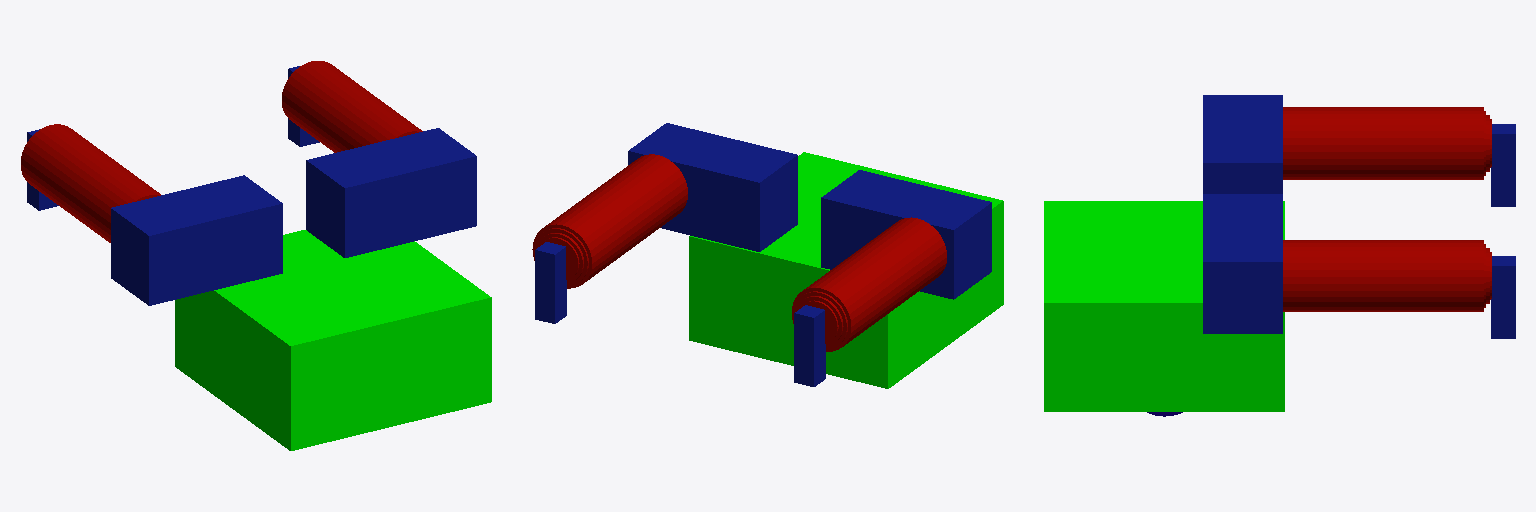
URDF robot description (robot):
<robot name="robot">
  <link name="base_link">
    <visual>
      <origin xyz="0 0 0.1291011279735872" rpy="0 0 0" />
      <geometry>
        <box size="0.3 0.3 0.15" />
      </geometry>
      <material name="base_link-material">
        <color rgba="0.006048833020386069 0.9473065367320066 0.0069954101845983935 1" />
      </material>
    </visual>
    <collision>
      <origin xyz="0 0 0.1291011279735872" rpy="0 0 0" />
      <geometry>
        <box size="0.3 0.3 0.15" />
      </geometry>
    </collision>
    <inertial>
      <origin xyz="0 0 0.1291011279735872" rpy="0 0 0" />
      <mass value="1" />
      <inertia ixx="0.16666666666666666" ixy="0" ixz="0" iyy="0.16666666666666666" iyz="0" izz="0.16666666666666666" />
    </inertial>
  </link>
  <link name="cylinder1">
    <visual>
      <origin xyz="0 0 0" rpy="0 0 0" />
      <geometry>
        <cylinder radius="0.05" length="0.1" />
      </geometry>
      <material name="cylinder1-material">
        <color rgba="0.10461648408208657 0.015996293361446288 0.514917665367466 1" />
      </material>
    </visual>
    <collision>
      <origin xyz="0 0 0" rpy="0 0 0" />
      <geometry>
        <cylinder radius="0.05" length="0.1" />
      </geometry>
    </collision>
    <inertial>
      <origin xyz="0 0 0" rpy="0 0 0" />
      <mass value="1" />
      <inertia ixx="0.3333333333333333" ixy="0" ixz="0" iyy="0.5" iyz="0" izz="0.3333333333333333" />
    </inertial>
  </link>
  <joint name="base_link_to_cylinder1" type="fixed">
    <parent link="base_link" />
    <child link="cylinder1" />
    <origin xyz="0 0 0.05122113929521599" rpy="1.5707963267948966 2.220446049250313e-16 1.5707963267948963" />
  </joint>
  <link name="cube3">
    <visual>
      <origin xyz="0 0 0" rpy="0 0 0" />
      <geometry>
        <box size="0.1 0.1 0.1" />
      </geometry>
      <material name="cube3-material">
        <color rgba="0.08865558627723595 0.13563332964548108 0.5647115056965487 1" />
      </material>
    </visual>
    <collision>
      <origin xyz="0 0 0" rpy="0 0 0" />
      <geometry>
        <box size="0.1 0.1 0.1" />
      </geometry>
    </collision>
    <inertial>
      <origin xyz="0 0 0" rpy="0 0 0" />
      <mass value="1" />
      <inertia ixx="0.16666666666666666" ixy="0" ixz="0" iyy="0.16666666666666666" iyz="0" izz="0.16666666666666666" />
    </inertial>
  </link>
  <joint name="base_link_to_cube3" type="revolute">
    <parent link="base_link" />
    <child link="cube3" />
    <origin xyz="0.09490880780581268 0.09748329533451194 0.25430133179925585" rpy="0 0 0" />
    <axis xyz="0 0 1"/>
    <limit effort="1000.0" lower="-1" upper="1" velocity="0.5"/>  </joint>
  <link name="cube3-copy3">
    <visual>
      <origin xyz="0 0 0" rpy="0 0 0" />
      <geometry>
        <box size="0.1 0.1 0.1" />
      </geometry>
      <material name="cube3-copy3-material">
        <color rgba="0.08865558627723595 0.13563332964548108 0.5647115056965487 1" />
      </material>
    </visual>
    <collision>
      <origin xyz="0 0 0" rpy="0 0 0" />
      <geometry>
        <box size="0.1 0.1 0.1" />
      </geometry>
    </collision>
    <inertial>
      <origin xyz="0 0 0" rpy="0 0 0" />
      <mass value="1" />
      <inertia ixx="0.16666666666666666" ixy="0" ixz="0" iyy="0.16666666666666666" iyz="0" izz="0.16666666666666666" />
    </inertial>
  </link>
  <joint name="cube3_to_cube3-copy3" type="revolute">
    <parent link="cube3" />
    <child link="cube3-copy3" />
    <origin xyz="0.0977326868794024 0 0" rpy="0 1.5707963267948966 0" />
    <axis xyz="0 0 1"/>
    <limit effort="1000.0" lower="-1" upper="1" velocity="0.5"/>  </joint>
  <link name="cylinder3-copy5">
    <visual>
      <origin xyz="2.7755575615628914e-17 -3.903127820947816e-17 -1.3877787807814457e-17" rpy="0 0 0" />
      <geometry>
        <cylinder radius="0.045" length="0.25" />
      </geometry>
      <material name="cylinder3-copy5-material">
        <color rgba="0.6583748172725346 0.036889450395083165 0.012983032338510335 1" />
      </material>
    </visual>
    <collision>
      <origin xyz="2.7755575615628914e-17 -3.903127820947816e-17 -1.3877787807814457e-17" rpy="0 0 0" />
      <geometry>
        <cylinder radius="0.045" length="0.25" />
      </geometry>
    </collision>
    <inertial>
      <origin xyz="2.7755575615628914e-17 -3.903127820947816e-17 -1.3877787807814457e-17" rpy="0 0 0" />
      <mass value="1" />
      <inertia ixx="0.3333333333333333" ixy="0" ixz="0" iyy="0.5" iyz="0" izz="0.3333333333333333" />
    </inertial>
  </link>
  <joint name="cube3-copy3_to_cylinder3-copy5" type="fixed">
    <parent link="cube3-copy3" />
    <child link="cylinder3-copy5" />
    <origin xyz="-0.009420597854085 0.17490331386129884 0.004821036014162006" rpy="-2.356194490192345 1.5707963267948966 -0.7853981633974483" />
  </joint>
  <link name="cylinder3">
    <visual>
      <origin xyz="2.7755575615628914e-17 -3.903127820947816e-17 -1.3877787807814457e-17" rpy="0 0 0" />
      <geometry>
        <cylinder radius="0.04" length="0.25" />
      </geometry>
      <material name="cylinder3-material">
        <color rgba="0.6583748172725346 0.036889450395083165 0.012983032338510335 1" />
      </material>
    </visual>
    <collision>
      <origin xyz="2.7755575615628914e-17 -3.903127820947816e-17 -1.3877787807814457e-17" rpy="0 0 0" />
      <geometry>
        <cylinder radius="0.04" length="0.25" />
      </geometry>
    </collision>
    <inertial>
      <origin xyz="2.7755575615628914e-17 -3.903127820947816e-17 -1.3877787807814457e-17" rpy="0 0 0" />
      <mass value="1" />
      <inertia ixx="0.3333333333333333" ixy="0" ixz="0" iyy="0.5" iyz="0" izz="0.3333333333333333" />
    </inertial>
  </link>
  <joint name="cylinder3-copy5_to_cylinder3" type="prismatic">
    <parent link="cylinder3-copy5" />
    <child link="cylinder3" />
    <origin xyz="2.7028641463453882e-17 -4.336808689942018e-19 0.0032738203768583746" rpy="0 0 0" />
    <axis xyz="0 0 1"/>
    <limit effort="1000.0" lower="0" upper="0.2" velocity="0.5"/>  </joint>
  <link name="cylinder3-copy0">
    <visual>
      <origin xyz="0 0 0" rpy="0 0 0" />
      <geometry>
        <cylinder radius="0.035" length="0.25" />
      </geometry>
      <material name="cylinder3-copy0-material">
        <color rgba="0.6583748172725346 0.036889450395083165 0.012983032338510335 1" />
      </material>
    </visual>
    <collision>
      <origin xyz="0 0 0" rpy="0 0 0" />
      <geometry>
        <cylinder radius="0.035" length="0.25" />
      </geometry>
    </collision>
    <inertial>
      <origin xyz="0 0 0" rpy="0 0 0" />
      <mass value="1" />
      <inertia ixx="0.3333333333333333" ixy="0" ixz="0" iyy="0.5" iyz="0" izz="0.3333333333333333" />
    </inertial>
  </link>
  <joint name="cylinder3_to_cylinder3-copy0" type="prismatic">
    <parent link="cylinder3" />
    <child link="cylinder3-copy0" />
    <origin xyz="5.388818844109483e-17 -6.808789643208968e-17 0.004016047725078617" rpy="0 0 0" />
    <axis xyz="0 0 1"/>
    <limit effort="1000.0" lower="0" upper="0.2" velocity="0.5"/>  
    <mimic joint="cylinder3-copy5_to_cylinder3" multiplier="1.0" offset="0.0"/>
  </joint>
  <link name="cylinder3-copy1">
    <visual>
      <origin xyz="0 0 0" rpy="0 0 0" />
      <geometry>
        <cylinder radius="0.03" length="0.25" />
      </geometry>
      <material name="cylinder3-copy1-material">
        <color rgba="0.6583748172725346 0.036889450395083165 0.012983032338510335 1" />
      </material>
    </visual>
    <collision>
      <origin xyz="0 0 0" rpy="0 0 0" />
      <geometry>
        <cylinder radius="0.03" length="0.25" />
      </geometry>
    </collision>
    <inertial>
      <origin xyz="0 0 0" rpy="0 0 0" />
      <mass value="1" />
      <inertia ixx="0.3333333333333333" ixy="0" ixz="0" iyy="0.5" iyz="0" izz="0.3333333333333333" />
    </inertial>
  </link>
  <joint name="cylinder3-copy0_to_cylinder3-copy1" type="prismatic">
    <parent link="cylinder3-copy0" />
    <child link="cylinder3-copy1" />
    <origin xyz="-9.301005920151903e-19 -1.235990476633475e-17 0.003018064157115752" rpy="0 0 0" />
    <axis xyz="0 0 1"/>
    <limit effort="1000.0" lower="0" upper="0.2" velocity="0.5"/>    
    <mimic joint="cylinder3-copy5_to_cylinder3" multiplier="1.0" offset="0.0"/>
  </joint>
  <link name="cube3-copy2">
    <visual>
      <origin xyz="0 0 0" rpy="0 0 0" />
      <geometry>
        <box size="0.03 0.03 0.1" />
      </geometry>
      <material name="cube3-copy2-material">
        <color rgba="0.08865558627723595 0.13563332964548108 0.5647115056965487 1" />
      </material>
    </visual>
    <collision>
      <origin xyz="0 0 0" rpy="0 0 0" />
      <geometry>
        <box size="0.03 0.03 0.1" />
      </geometry>
    </collision>
    <inertial>
      <origin xyz="0 0 0" rpy="0 0 0" />
      <mass value="1" />
      <inertia ixx="0.16666666666666666" ixy="0" ixz="0" iyy="0.16666666666666666" iyz="0" izz="0.16666666666666666" />
    </inertial>
  </link>
  <joint name="cylinder3-copy1_to_cube3-copy2" type="fixed">
    <parent link="cylinder3-copy1" />
    <child link="cube3-copy2" />
    <origin xyz="-0.0031223829591222113 -0.028689304082221243 0.13915032059303187" rpy="-1.5707963267948963 0 0" />
  </joint>
  <link name="cube3-copy0">
    <visual>
      <origin xyz="0 0 0" rpy="0 0 0" />
      <geometry>
        <box size="0.1 0.1 0.1" />
      </geometry>
      <material name="cube3-copy0-material">
        <color rgba="0.08865558627723595 0.13563332964548108 0.5647115056965487 1" />
      </material>
    </visual>
    <collision>
      <origin xyz="0 0 0" rpy="0 0 0" />
      <geometry>
        <box size="0.1 0.1 0.1" />
      </geometry>
    </collision>
    <inertial>
      <origin xyz="0 0 0" rpy="0 0 0" />
      <mass value="1" />
      <inertia ixx="0.16666666666666666" ixy="0" ixz="0" iyy="0.16666666666666666" iyz="0" izz="0.16666666666666666" />
    </inertial>
  </link>
  <joint name="base_link_to_cube3-copy0" type="revolute">
    <parent link="base_link" />
    <child link="cube3-copy0" />
    <origin xyz="-0.09726916492783255 0.09748329533451194 0.25430133179925585" rpy="0 0 0" />
    <axis xyz="0 0 1"/>
    <limit effort="1000.0" lower="-1" upper="1" velocity="0.5"/>  </joint>
  <link name="cube3-copy4">
    <visual>
      <origin xyz="0 0 0" rpy="0 0 0" />
      <geometry>
        <box size="0.1 0.1 0.1" />
      </geometry>
      <material name="cube3-copy4-material">
        <color rgba="0.08865558627723595 0.13563332964548108 0.5647115056965487 1" />
      </material>
    </visual>
    <collision>
      <origin xyz="0 0 0" rpy="0 0 0" />
      <geometry>
        <box size="0.1 0.1 0.1" />
      </geometry>
    </collision>
    <inertial>
      <origin xyz="0 0 0" rpy="0 0 0" />
      <mass value="1" />
      <inertia ixx="0.16666666666666666" ixy="0" ixz="0" iyy="0.16666666666666666" iyz="0" izz="0.16666666666666666" />
    </inertial>
  </link>
  <joint name="cube3-copy0_to_cube3-copy4" type="revolute">
    <parent link="cube3-copy0" />
    <child link="cube3-copy4" />
    <origin xyz="-0.09985074079374005 0 0" rpy="0 1.5707963267948966 0" />
    <axis xyz="0 0 1"/>
    <limit effort="1000.0" lower="-1" upper="1" velocity="0.5"/>  </joint>
  <link name="cylinder3-copy6">
    <visual>
      <origin xyz="2.7755575615628914e-17 -3.903127820947816e-17 -1.3877787807814457e-17" rpy="0 0 0" />
      <geometry>
        <cylinder radius="0.045" length="0.25" />
      </geometry>
      <material name="cylinder3-copy6-material">
        <color rgba="0.6583748172725346 0.036889450395083165 0.012983032338510335 1" />
      </material>
    </visual>
    <collision>
      <origin xyz="2.7755575615628914e-17 -3.903127820947816e-17 -1.3877787807814457e-17" rpy="0 0 0" />
      <geometry>
        <cylinder radius="0.045" length="0.25" />
      </geometry>
    </collision>
    <inertial>
      <origin xyz="2.7755575615628914e-17 -3.903127820947816e-17 -1.3877787807814457e-17" rpy="0 0 0" />
      <mass value="1" />
      <inertia ixx="0.3333333333333333" ixy="0" ixz="0" iyy="0.5" iyz="0" izz="0.3333333333333333" />
    </inertial>
  </link>
  <joint name="cube3-copy4_to_cylinder3-copy6" type="fixed">
    <parent link="cube3-copy4" />
    <child link="cylinder3-copy6" />
    <origin xyz="-0.009420597854085 0.17490331386129884 0.004821036014162006" rpy="-2.356194490192345 1.5707963267948966 -0.7853981633974483" />
  </joint>
  <link name="cylinder3-copy2">
    <visual>
      <origin xyz="2.7755575615628914e-17 -3.903127820947816e-17 -1.3877787807814457e-17" rpy="0 0 0" />
      <geometry>
        <cylinder radius="0.04" length="0.25" />
      </geometry>
      <material name="cylinder3-copy2-material">
        <color rgba="0.6583748172725346 0.036889450395083165 0.012983032338510335 1" />
      </material>
    </visual>
    <collision>
      <origin xyz="2.7755575615628914e-17 -3.903127820947816e-17 -1.3877787807814457e-17" rpy="0 0 0" />
      <geometry>
        <cylinder radius="0.04" length="0.25" />
      </geometry>
    </collision>
    <inertial>
      <origin xyz="2.7755575615628914e-17 -3.903127820947816e-17 -1.3877787807814457e-17" rpy="0 0 0" />
      <mass value="1" />
      <inertia ixx="0.3333333333333333" ixy="0" ixz="0" iyy="0.5" iyz="0" izz="0.3333333333333333" />
    </inertial>
  </link>
  <joint name="cylinder3-copy6_to_cylinder3-copy2" type="prismatic">
    <parent link="cylinder3-copy6" />
    <child link="cylinder3-copy2" />
    <origin xyz="2.7028641463453882e-17 -4.336808689942018e-19 0.0032738203768583746" rpy="0 0 0" />
    <axis xyz="0 0 1"/>
    <limit effort="1000.0" lower="0" upper="0.2" velocity="0.5"/>  </joint>
  <link name="cylinder3-copy3">
    <visual>
      <origin xyz="0 0 0" rpy="0 0 0" />
      <geometry>
        <cylinder radius="0.035" length="0.25" />
      </geometry>
      <material name="cylinder3-copy3-material">
        <color rgba="0.6583748172725346 0.036889450395083165 0.012983032338510335 1" />
      </material>
    </visual>
    <collision>
      <origin xyz="0 0 0" rpy="0 0 0" />
      <geometry>
        <cylinder radius="0.035" length="0.25" />
      </geometry>
    </collision>
    <inertial>
      <origin xyz="0 0 0" rpy="0 0 0" />
      <mass value="1" />
      <inertia ixx="0.3333333333333333" ixy="0" ixz="0" iyy="0.5" iyz="0" izz="0.3333333333333333" />
    </inertial>
  </link>
  <joint name="cylinder3-copy2_to_cylinder3-copy3" type="prismatic">
    <parent link="cylinder3-copy2" />
    <child link="cylinder3-copy3" />
    <origin xyz="5.388818844109483e-17 -6.808789643208968e-17 0.004016047725078617" rpy="0 0 0" />
    <axis xyz="0 0 1"/>
    <limit effort="1000.0" lower="0" upper="0.2" velocity="0.5"/> 
    <mimic joint="cylinder3-copy6_to_cylinder3-copy2" multiplier="1.0" offset="0.0"/>
  </joint>
  <link name="cylinder3-copy4">
    <visual>
      <origin xyz="0 0 0" rpy="0 0 0" />
      <geometry>
        <cylinder radius="0.03" length="0.25" />
      </geometry>
      <material name="cylinder3-copy4-material">
        <color rgba="0.6583748172725346 0.036889450395083165 0.012983032338510335 1" />
      </material>
    </visual>
    <collision>
      <origin xyz="0 0 0" rpy="0 0 0" />
      <geometry>
        <cylinder radius="0.03" length="0.25" />
      </geometry>
    </collision>
    <inertial>
      <origin xyz="0 0 0" rpy="0 0 0" />
      <mass value="1" />
      <inertia ixx="0.3333333333333333" ixy="0" ixz="0" iyy="0.5" iyz="0" izz="0.3333333333333333" />
    </inertial>
  </link>
  <joint name="cylinder3-copy3_to_cylinder3-copy4" type="prismatic">
    <parent link="cylinder3-copy3" />
    <child link="cylinder3-copy4" />
    <origin xyz="-9.301005920151903e-19 -1.235990476633475e-17 0.003018064157115752" rpy="0 0 0" />
    <axis xyz="0 0 1"/>
    <limit effort="1000.0" lower="0" upper="0.2" velocity="0.5"/>
    <mimic joint="cylinder3-copy6_to_cylinder3-copy2" multiplier="1.0" offset="0.0"/>
  </joint>
  <link name="cube3-copy5">
    <visual>
      <origin xyz="0 0 0" rpy="0 0 0" />
      <geometry>
        <box size="0.03 0.03 0.1" />
      </geometry>
      <material name="cube3-copy5-material">
        <color rgba="0.08865558627723595 0.13563332964548108 0.5647115056965487 1" />
      </material>
    </visual>
    <collision>
      <origin xyz="0 0 0" rpy="0 0 0" />
      <geometry>
        <box size="0.03 0.03 0.1" />
      </geometry>
    </collision>
    <inertial>
      <origin xyz="0 0 0" rpy="0 0 0" />
      <mass value="1" />
      <inertia ixx="0.16666666666666666" ixy="0" ixz="0" iyy="0.16666666666666666" iyz="0" izz="0.16666666666666666" />
    </inertial>
  </link>
  <joint name="cylinder3-copy4_to_cube3-copy5" type="fixed">
    <parent link="cylinder3-copy4" />
    <child link="cube3-copy5" />
    <origin xyz="-0.0031223829591222113 -0.028689304082221243 0.13915032059303187" rpy="-1.5707963267948963 0 0" />
  </joint>
</robot>

--- Facts derived from the render (not from the file) ---
The picture shows the robot from 3 angles, left to right: view 1: azimuth 30°, elevation 25°; view 2: azimuth 150°, elevation 25°; view 3: azimuth 270°, elevation 25°; orthographic projection.
Model robot with 16 links and 15 joints (4 revolute, 6 prismatic, 5 fixed), rooted at base_link, posed every joint at zero.
Links seen in each view (by area): view 1: base_link, cube3-copy4, cube3, cylinder3-copy6, cylinder3-copy5, cube3-copy0, cube3-copy3; view 2: base_link, cube3, cylinder3-copy5, cylinder3-copy6, cube3-copy4, cube3-copy0, cube3-copy3, cube3-copy2, cube3-copy5; view 3: base_link, cylinder3-copy6, cylinder3-copy5, cube3-copy3, cube3-copy0, cube3, cube3-copy4, cube3-copy2, cube3-copy5.
Link boxes in pixels (<box>): base_link: <box>175,230,491,450</box>; cube3-copy4: <box>111,192,215,305</box>; cube3: <box>306,144,411,257</box>; cylinder3-copy6: <box>21,124,160,242</box>; cylinder3-copy5: <box>282,61,422,152</box>; cube3-copy0: <box>177,175,282,289</box>; cube3-copy3: <box>374,128,476,241</box>; base_link: <box>689,152,1003,388</box>; cube3: <box>693,139,797,251</box>; cylinder3-copy5: <box>532,154,687,288</box>; cylinder3-copy6: <box>792,217,946,351</box>; cube3-copy4: <box>888,186,991,299</box>; cube3-copy0: <box>821,170,924,269</box>; cube3-copy3: <box>628,123,731,236</box>; cube3-copy2: <box>535,242,566,323</box>; cube3-copy5: <box>794,305,825,386</box>; base_link: <box>1044,201,1284,411</box>; cylinder3-copy6: <box>1283,107,1483,179</box>; cylinder3-copy5: <box>1283,240,1483,311</box>; cube3-copy3: <box>1203,228,1282,333</box>; cube3-copy0: <box>1203,129,1282,193</box>; cube3: <box>1203,194,1282,227</box>; cube3-copy4: <box>1203,95,1282,128</box>; cube3-copy2: <box>1491,256,1515,338</box>; cube3-copy5: <box>1491,124,1515,206</box>.
Bounding box of the posed robot: 0.4898 × 0.5868 × 0.3075 m (x, y, z).
Geometry: primitives only (box / cylinder / sphere), no mesh files.